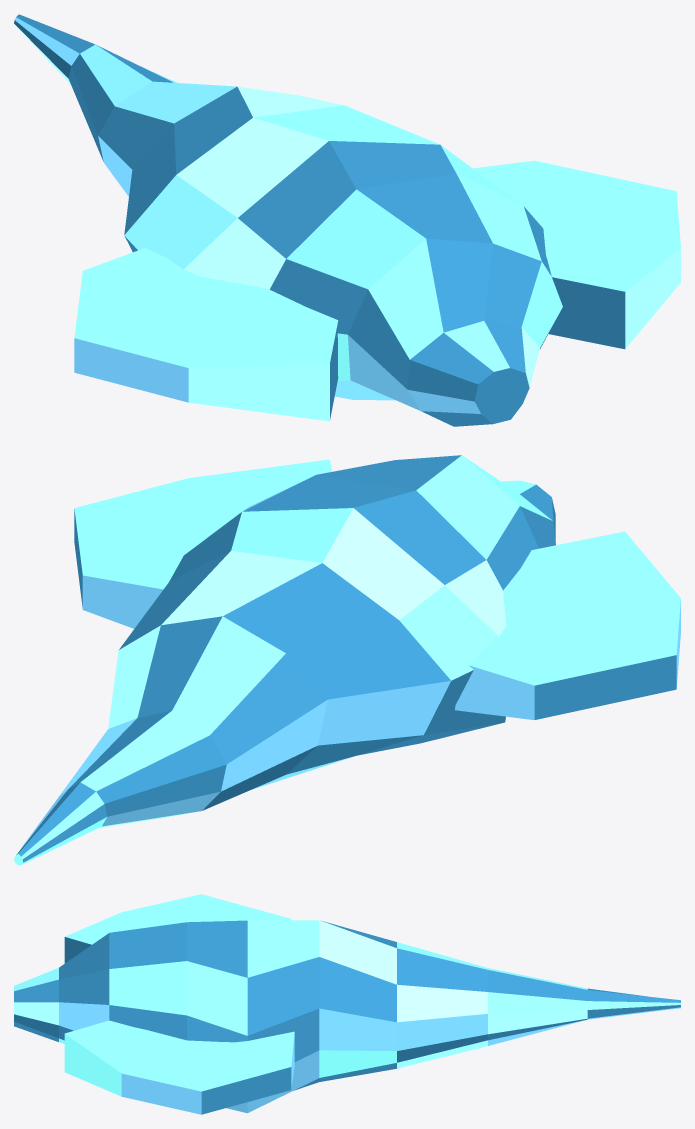
The model's file is frost_needle_v2.glb.
3 views of the same model, one above another, from view 1: azimuth 30°, elevation 25°; view 2: azimuth 150°, elevation 25°; view 3: azimuth 270°, elevation 25° (orthographic). The views are drawn at different scales.
Visible parts, largest first — view 1: Frost_Needle_v2_Solid_Crystal_Blade, Frost_Needle_v2_Solid_Wing_L, Frost_Needle_v2_Solid_Wing_R; view 2: Frost_Needle_v2_Solid_Crystal_Blade, Frost_Needle_v2_Solid_Wing_L, Frost_Needle_v2_Solid_Wing_R; view 3: Frost_Needle_v2_Solid_Crystal_Blade, Frost_Needle_v2_Solid_Wing_R, Frost_Needle_v2_Solid_Wing_L.
Part boxes in pixels (x1=…): Frost_Needle_v2_Solid_Crystal_Blade: x1=14, y1=14, x2=562, y2=426; Frost_Needle_v2_Solid_Wing_L: x1=74, y1=248, x2=338, y2=421; Frost_Needle_v2_Solid_Wing_R: x1=473, y1=160, x2=680, y2=349; Frost_Needle_v2_Solid_Crystal_Blade: x1=14, y1=455, x2=555, y2=865; Frost_Needle_v2_Solid_Wing_L: x1=455, y1=531, x2=680, y2=720; Frost_Needle_v2_Solid_Wing_R: x1=74, y1=459, x2=332, y2=628; Frost_Needle_v2_Solid_Crystal_Blade: x1=14, y1=920, x2=680, y2=1113; Frost_Needle_v2_Solid_Wing_R: x1=64, y1=1020, x2=294, y2=1114; Frost_Needle_v2_Solid_Wing_L: x1=64, y1=894, x2=291, y2=963.
Size of the model in its own units: 4.16 by 1.72 by 5.94.
